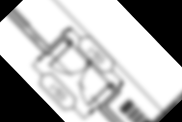double door: (46, 42, 112, 108)
